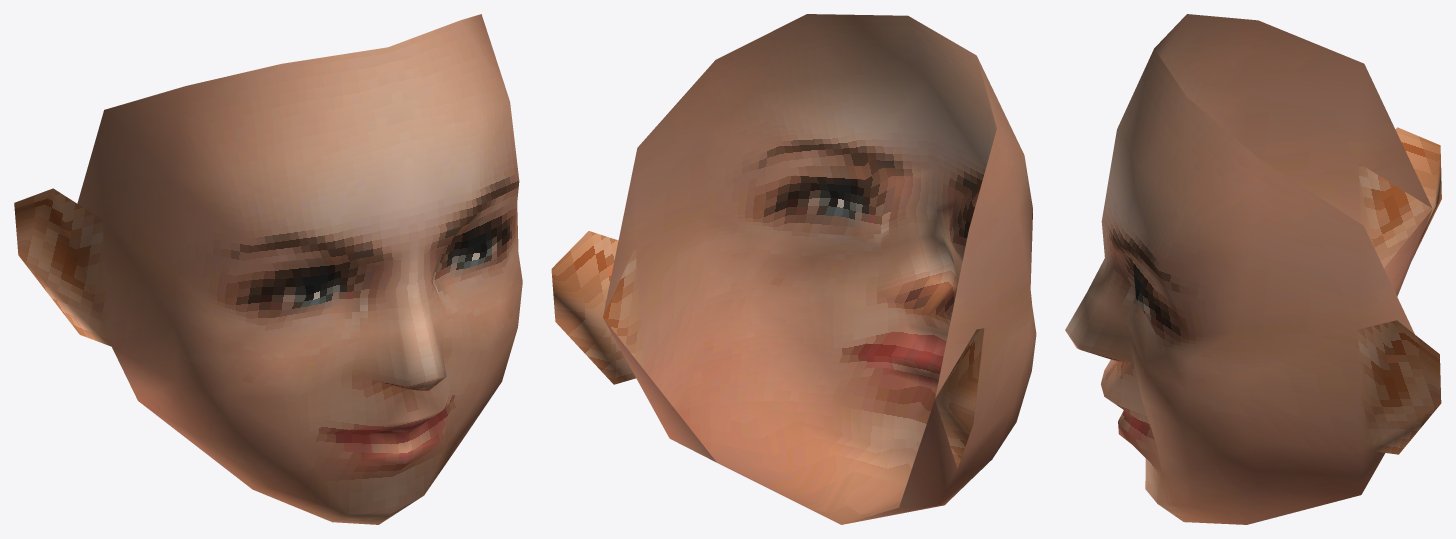
The picture shows the model from 3 angles, left to right: view 1: azimuth 30°, elevation 25°; view 2: azimuth 150°, elevation 25°; view 3: azimuth 270°, elevation 25°; orthographic projection. The views are drawn at different scales.
Parts seen in each view (by area): view 1: editpl_f-0000-1878, editpl_f-0000-1877; view 2: editpl_f-0000-1878, editpl_f-0000-1877; view 3: editpl_f-0000-1878, editpl_f-0000-1877.
Boxes of the visible parts, x1,y1,x2,y2 form: editpl_f-0000-1878: (14, 14, 522, 396); editpl_f-0000-1877: (112, 282, 522, 524); editpl_f-0000-1878: (551, 14, 1036, 468); editpl_f-0000-1877: (604, 258, 1036, 524); editpl_f-0000-1878: (1065, 14, 1441, 454); editpl_f-0000-1877: (1082, 209, 1432, 524).
Size of the model in its own units: 19.4 by 20.24 by 14.79.
